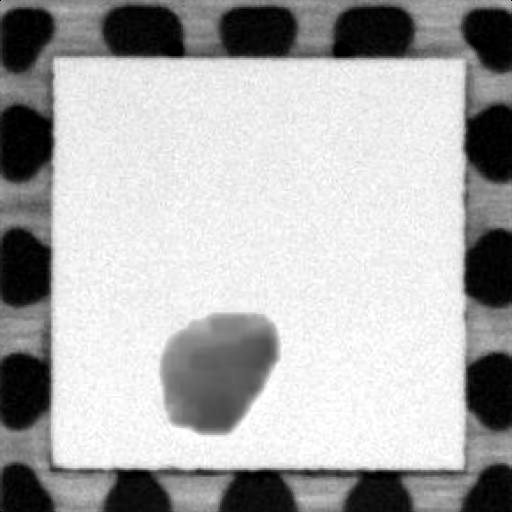DIE_INK: (158, 305, 273, 433)
